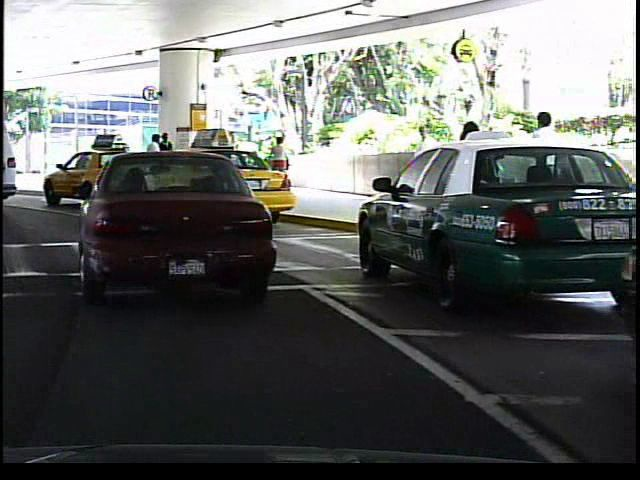person: (453, 111, 502, 230), (524, 105, 568, 232), (407, 118, 444, 209), (267, 132, 292, 192), (143, 132, 164, 188), (157, 129, 176, 189)
